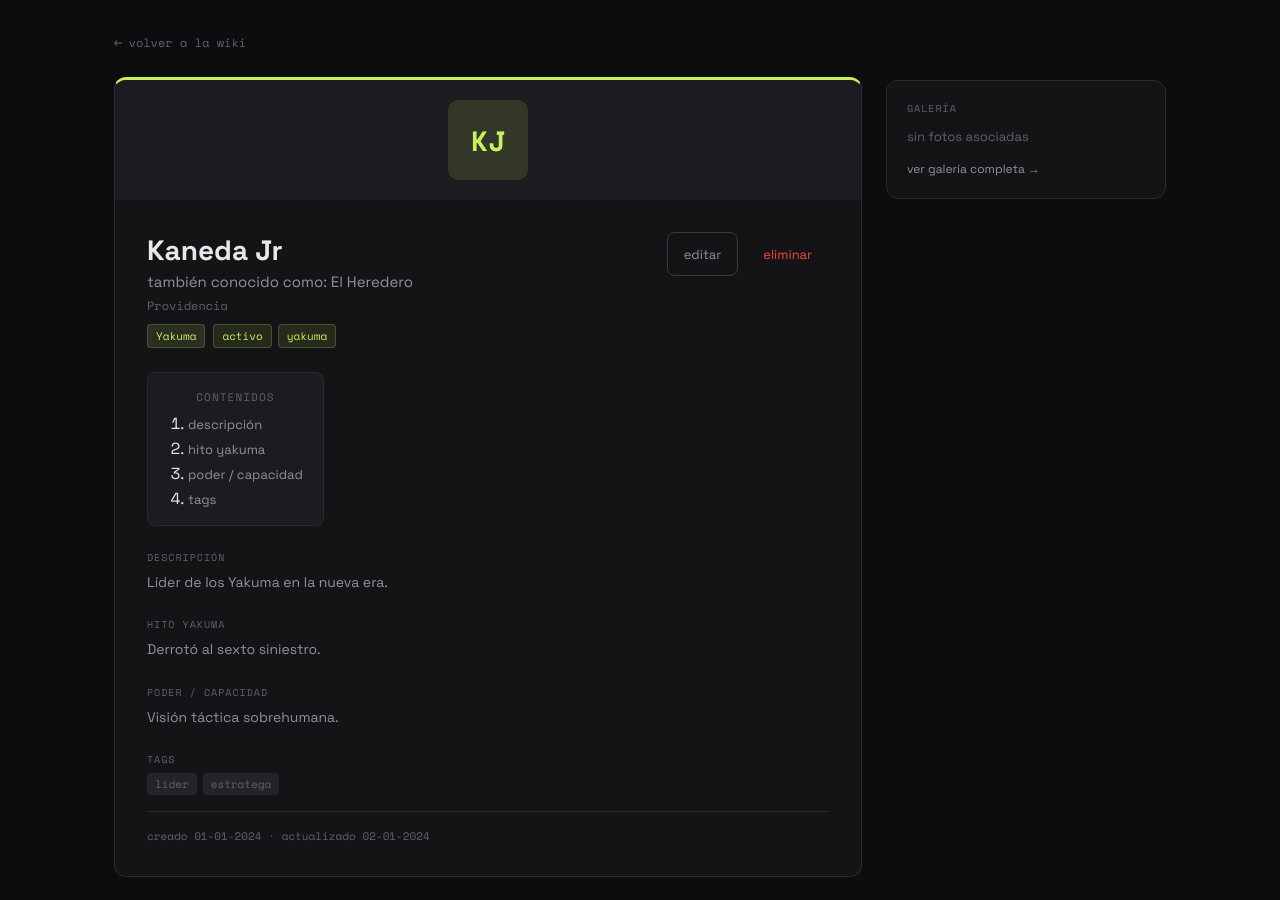
Scenario: CharacterPage delete button › delete button opens DeleteConfirmModal
This screenshot has width=1280, height=900.
Click the button "eliminar" at [788, 254], box [746,232,829,276]
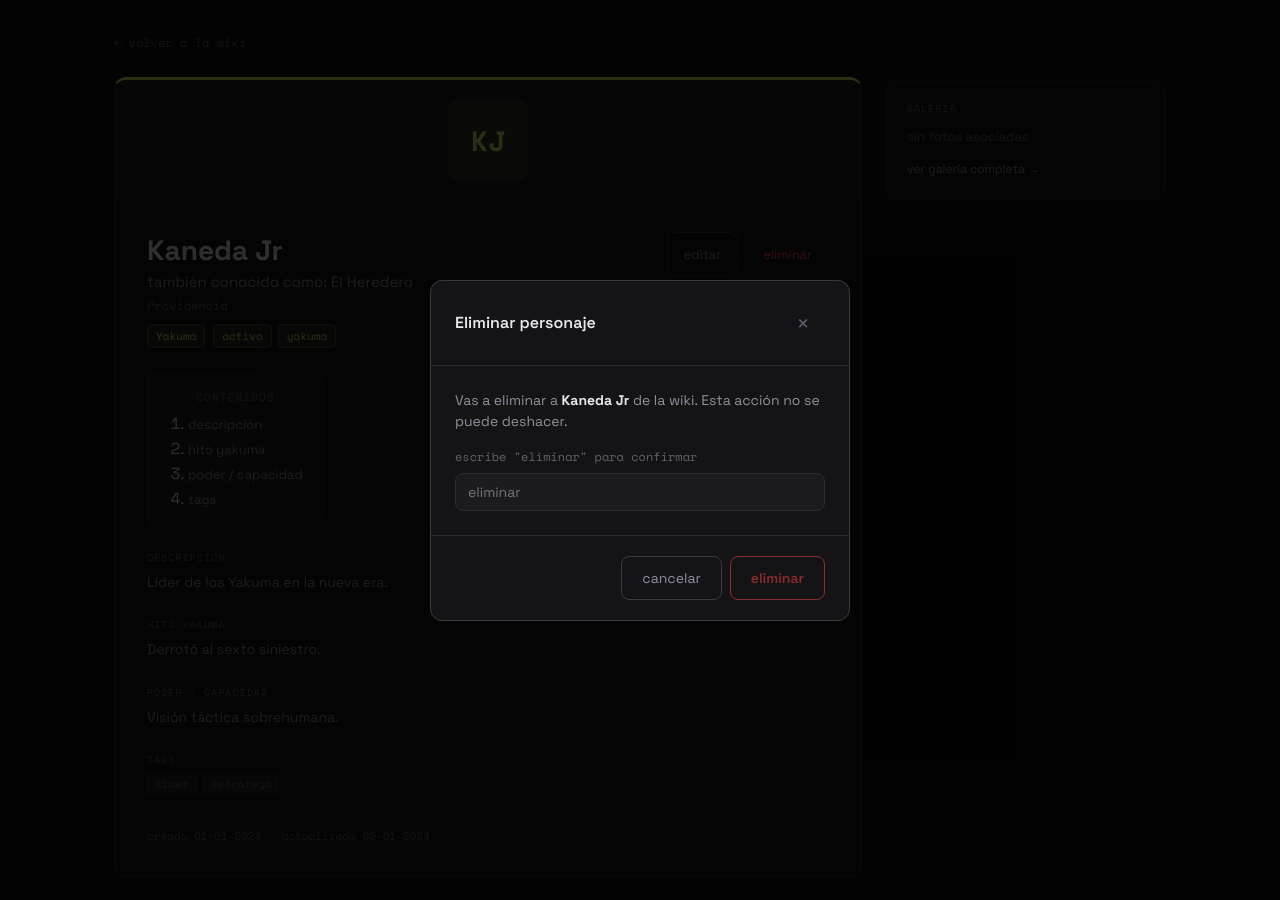
Now the text "Vas a eliminar a" is shown, box [455,390,562,408]
Now the field with placeholder "eliminar" is shown, box [455,472,825,510]
